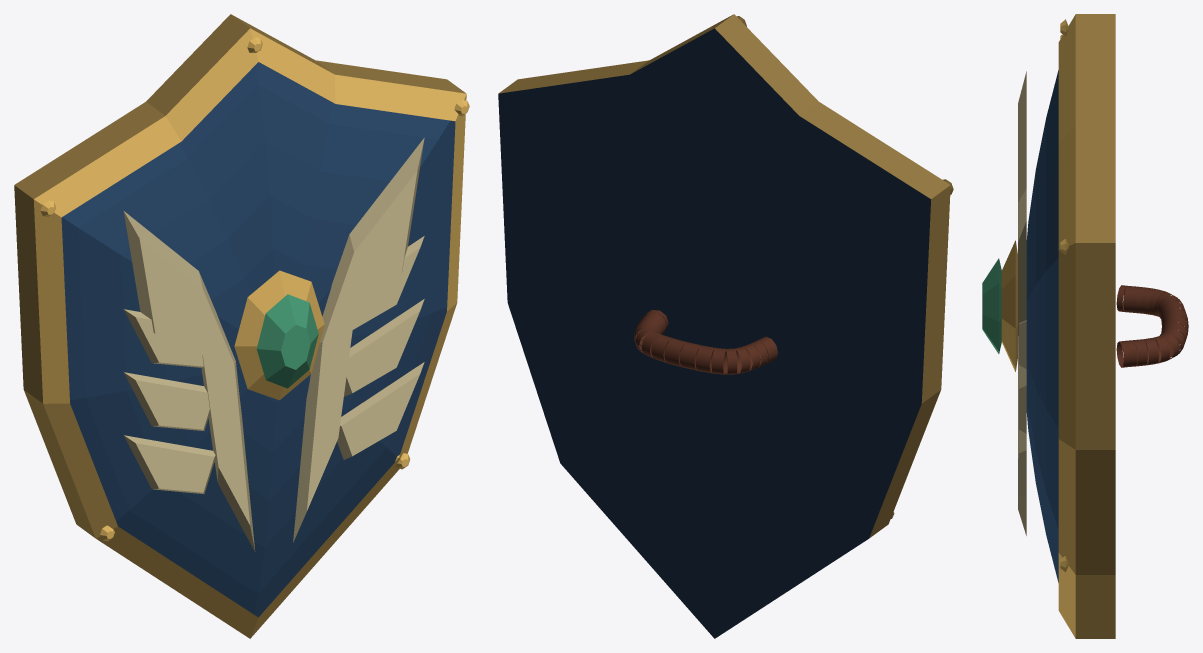
The model's file is KnightShield.obj.
3 renders of one model, left to right at view 1: azimuth 30°, elevation 25°; view 2: azimuth 150°, elevation 25°; view 3: azimuth 270°, elevation 25°, orthographic. The views are drawn at different scales.
Visible parts, largest first — view 1: KnightShield; view 2: KnightShield; view 3: KnightShield.
Part boxes in pixels (x1=…): KnightShield: x1=14, y1=14, x2=469, y2=638; KnightShield: x1=498, y1=14, x2=953, y2=638; KnightShield: x1=982, y1=14, x2=1188, y2=638.
Bounding box in the file's own units: 23 × 31 × 9.27.
